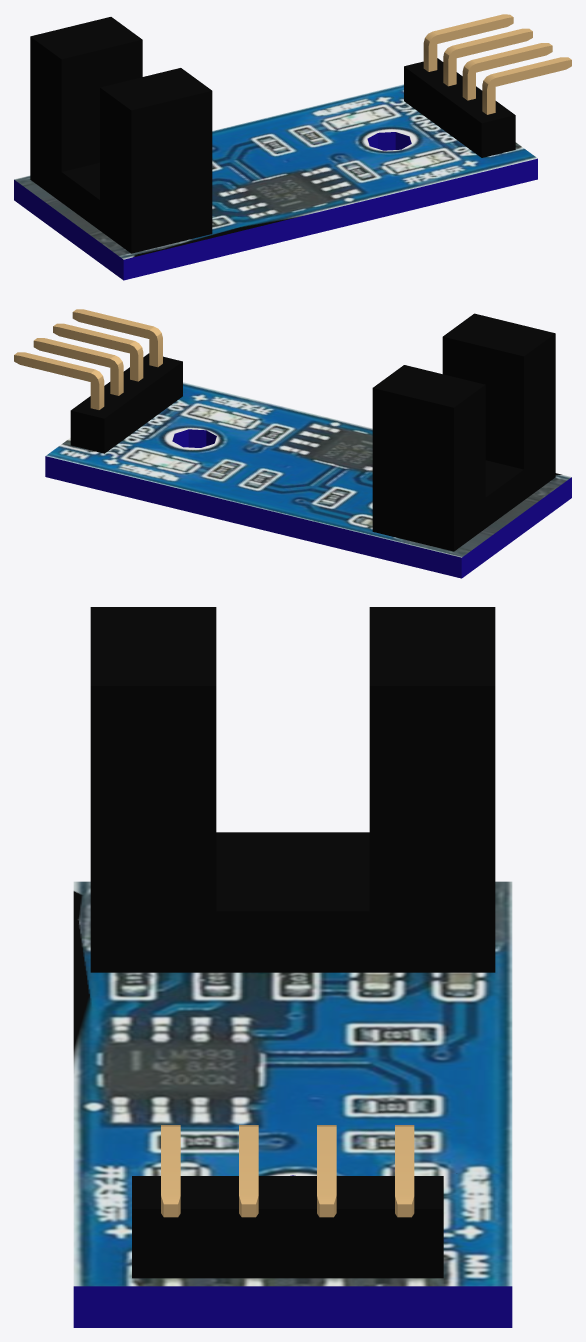
The model's file is SM_Incoder.fbx.
3 views of the same model, one above another, from view 1: azimuth 30°, elevation 25°; view 2: azimuth 150°, elevation 25°; view 3: azimuth 270°, elevation 25° (orthographic). The views are drawn at different scales.
Visible parts, largest first — view 1: incoder.001; view 2: incoder.001; view 3: incoder.001.
Part boxes in pixels (left/top/right/bottom): incoder.001: left=14, top=14, right=571, bottom=280; incoder.001: left=14, top=309, right=571, bottom=578; incoder.001: left=73, top=607, right=512, bottom=1327.
Bounding box in the file's own units: 3.54 × 1.18 × 1.43.
1 material, 1 textured.
